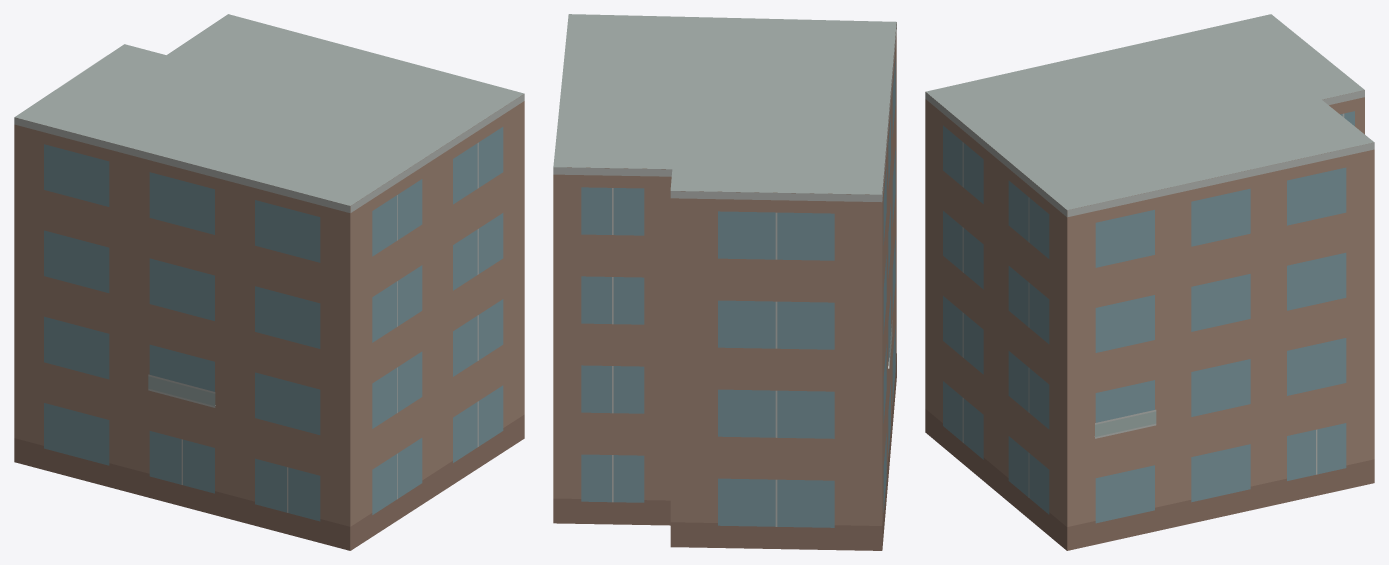
Rendered from survey-upis-32671907.glb.
The picture shows the model from 3 angles, left to right: view 1: azimuth 30°, elevation 25°; view 2: azimuth 150°, elevation 25°; view 3: azimuth 270°, elevation 25°; orthographic projection. The views are drawn at different scales.
Visible parts, largest first — view 1: survey-upis-32671907.tmp; view 2: survey-upis-32671907.tmp; view 3: survey-upis-32671907.tmp.
Part boxes in pixels (left/top/right/bottom): survey-upis-32671907.tmp: left=14, top=14, right=524, bottom=550; survey-upis-32671907.tmp: left=553, top=14, right=896, bottom=550; survey-upis-32671907.tmp: left=925, top=14, right=1374, bottom=550.
Size of the model in its own units: 14.33 by 11.6 by 13.87.
